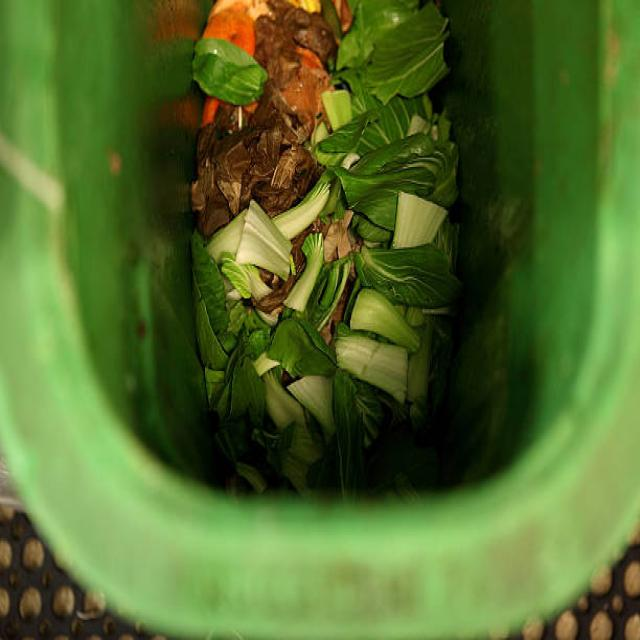trash: (189, 14, 466, 484)
